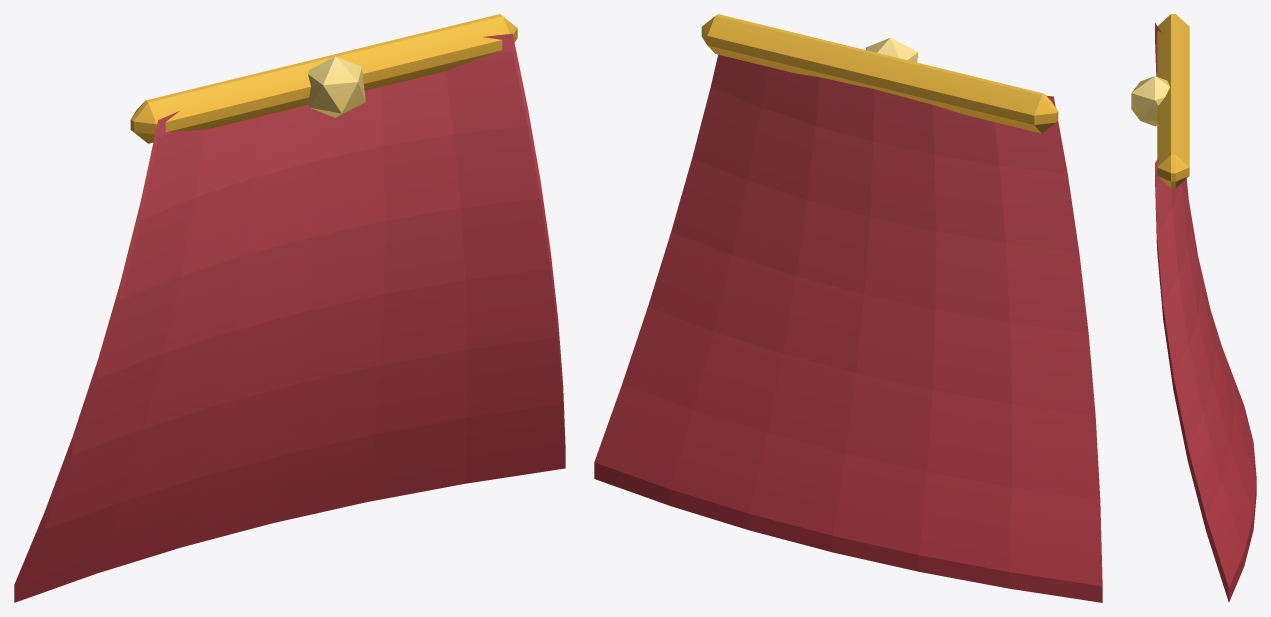
File: cape.glb
3 renders of one model, left to right at view 1: azimuth 30°, elevation 25°; view 2: azimuth 150°, elevation 25°; view 3: azimuth 270°, elevation 25°, orthographic. The views are drawn at different scales.
Visible parts, largest first — view 1: cape_cloth; view 2: cape_cloth; view 3: cape_cloth.
Part boxes in pixels (bbox=[...]): cape_cloth: bbox=[14, 14, 565, 602]; cape_cloth: bbox=[594, 14, 1102, 602]; cape_cloth: bbox=[1131, 14, 1256, 602].
Size of the model in its own units: 1.12 by 0.995 by 0.271.
Materials: 1 (1 with a texture image).
